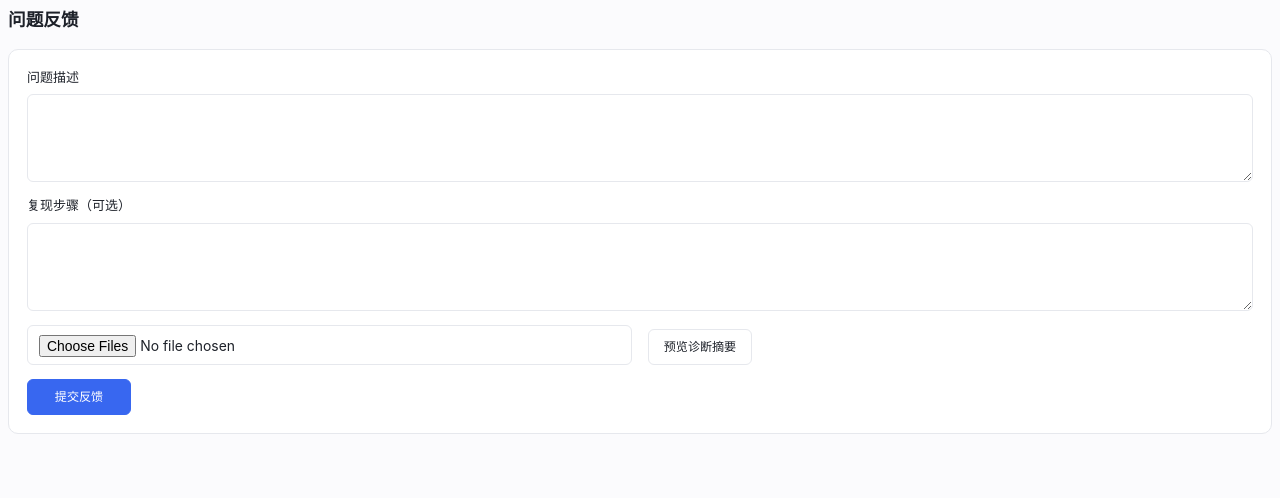
retains a failed report and retries with the same operation identity
In the text box labelled "问题描述": (640, 138) [27, 94, 1253, 182], type "文件打不开"
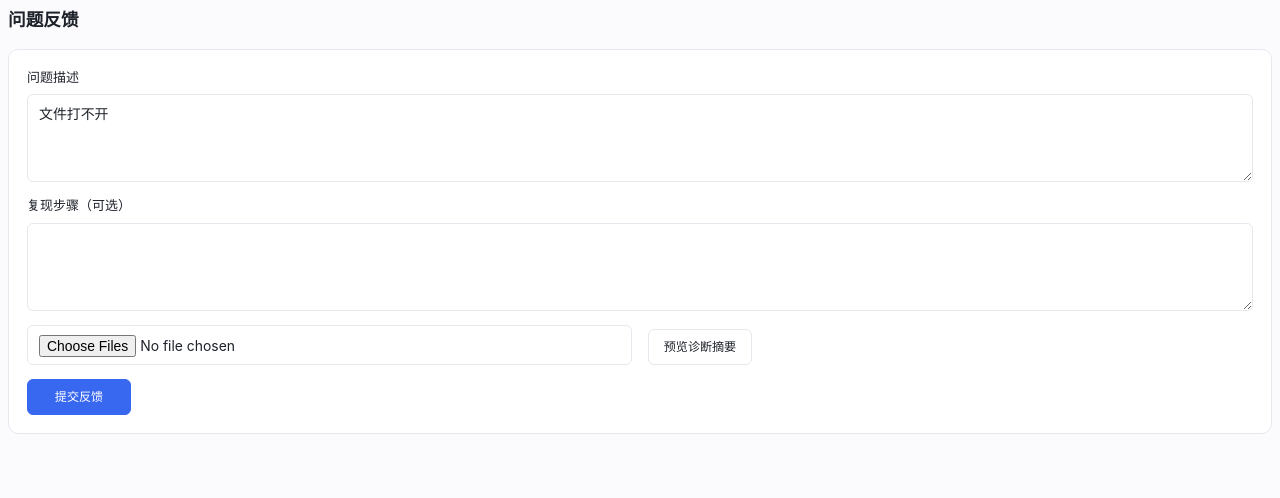
Click the button "提交反馈": (79, 397) [27, 379, 131, 415]
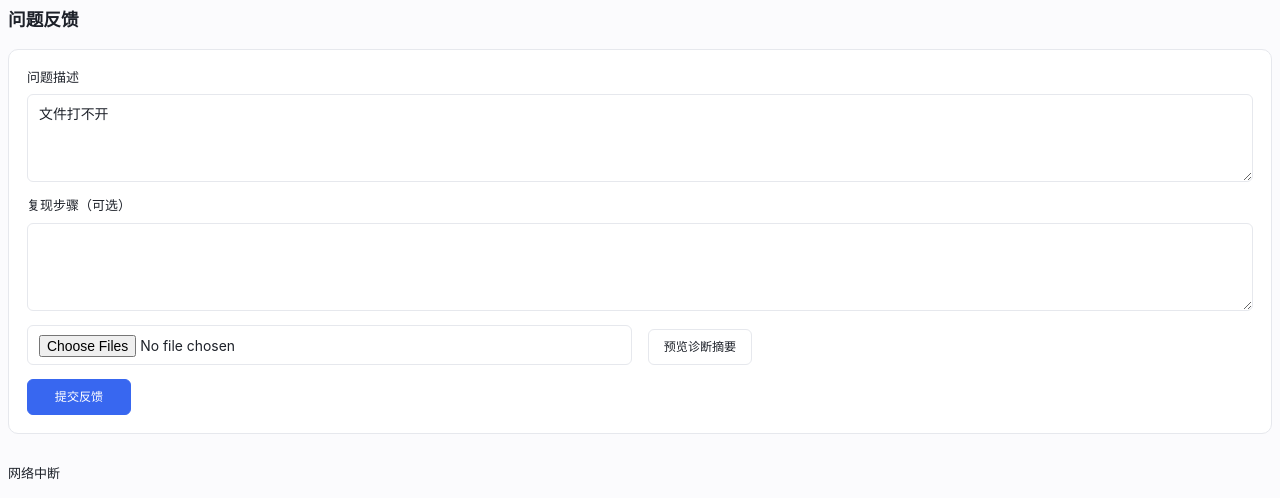
Expected: the text "网络中断" is shown, [8, 465, 60, 481]
Click the button "提交反馈": (79, 397) [27, 379, 131, 415]
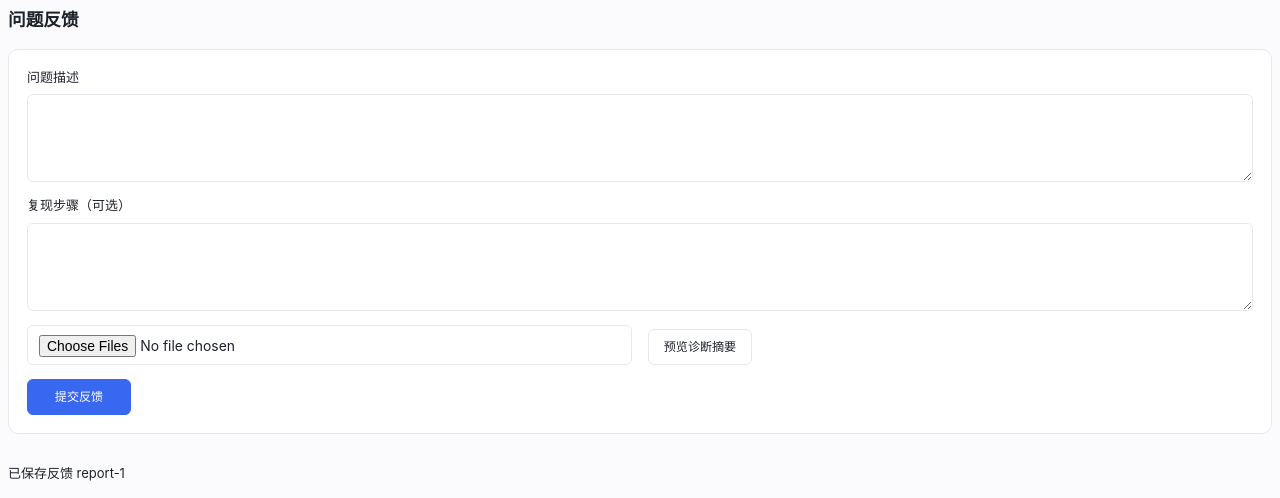
Expected: the text "已保存反馈 report-1" is shown, [8, 465, 125, 481]
Expected: the text box labelled "问题描述" is empty, [27, 94, 1253, 182]
